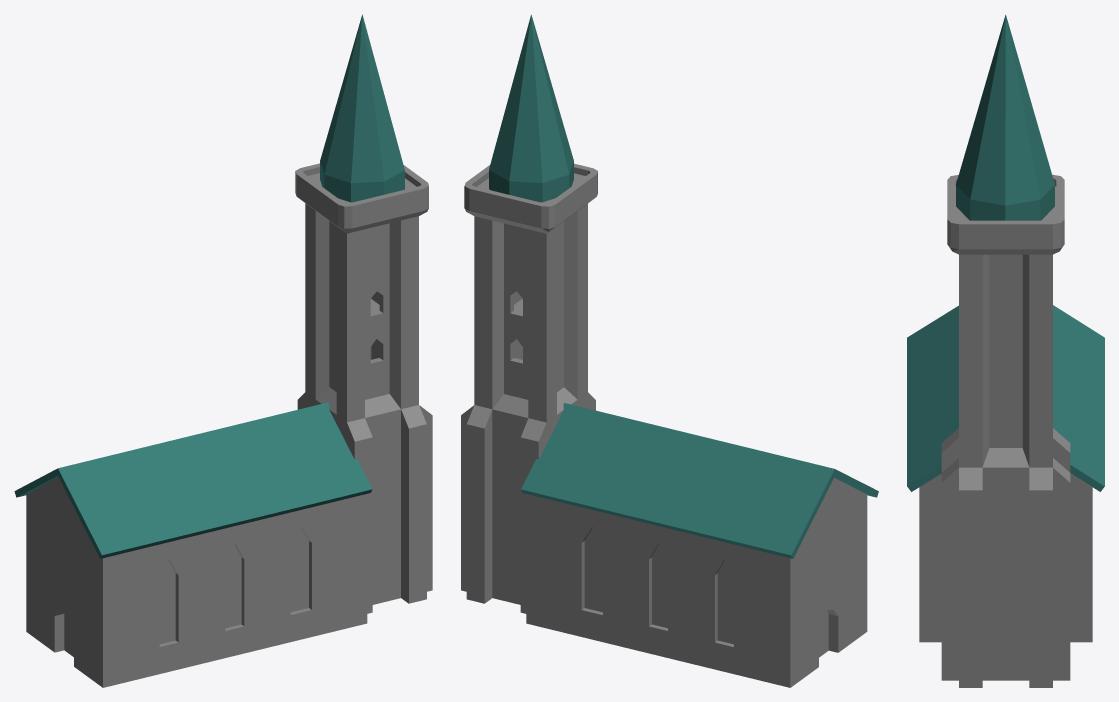
The model's file is PROP_Church.fbx.
3 renders of one model, left to right at view 1: azimuth 30°, elevation 25°; view 2: azimuth 150°, elevation 25°; view 3: azimuth 270°, elevation 25°, orthographic. The views are drawn at different scales.
Parts seen in each view (by area): view 1: PROP_Church; view 2: PROP_Church; view 3: PROP_Church.
Part boxes in pixels (left/top/right/bottom): PROP_Church: left=14, top=14, right=432, bottom=687; PROP_Church: left=461, top=14, right=878, bottom=687; PROP_Church: left=907, top=14, right=1104, bottom=687.
Bounding box in the file's own units: 3425 × 5308 × 1470.
